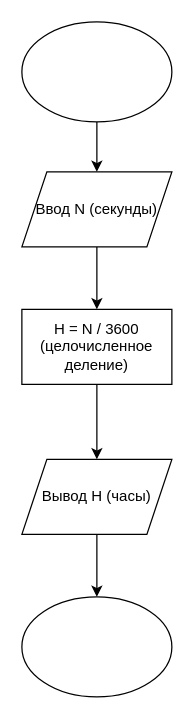
Image size: 194x719. Some labels were removed from this diagram. Here are the shapes that lost their labels. From the top down, the centre of each, then its label:
the point at 96,71: начало
the point at 96,646: Конец
